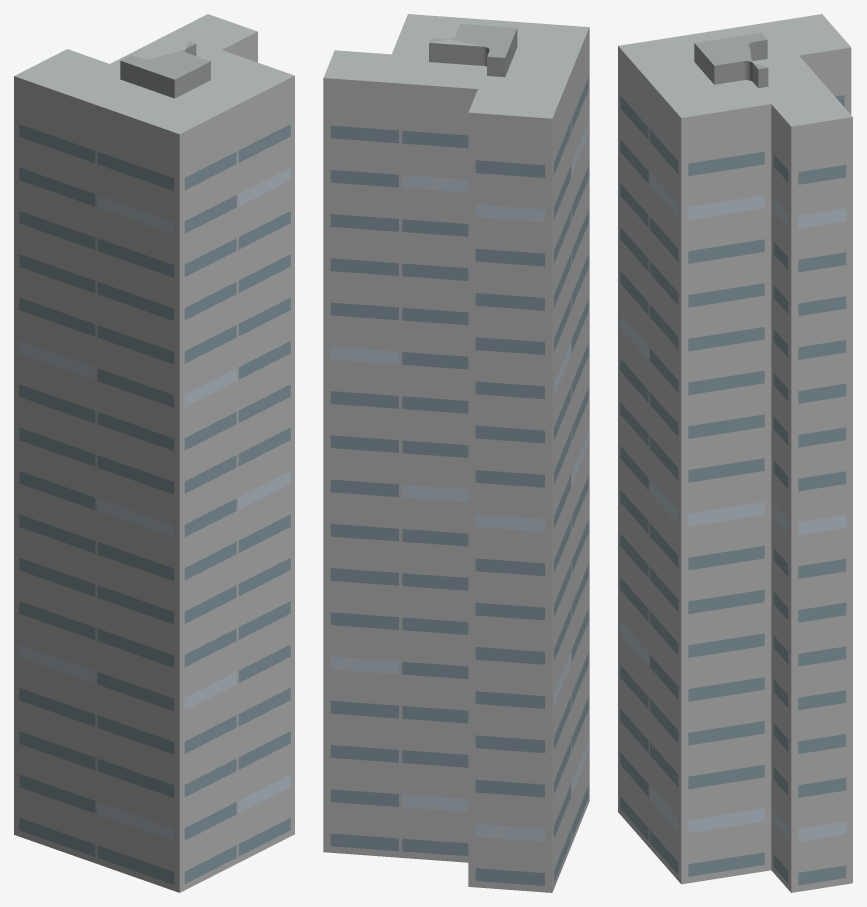
Rendered from fallback-songpa-helio-city-106.glb.
3 views of the same model, side by side, from view 1: azimuth 30°, elevation 25°; view 2: azimuth 150°, elevation 25°; view 3: azimuth 270°, elevation 25° (orthographic). The views are drawn at different scales.
Parts seen in each view (by area): view 1: fallback-songpa-helio-city-106; view 2: fallback-songpa-helio-city-106; view 3: fallback-songpa-helio-city-106.
Boxes of the visible parts, box(x1,y1,x2,y2) form: fallback-songpa-helio-city-106: box(14, 14, 294, 892); fallback-songpa-helio-city-106: box(323, 14, 589, 892); fallback-songpa-helio-city-106: box(618, 14, 852, 892).
Size of the model in its own units: 30.47 by 99 by 26.83.
